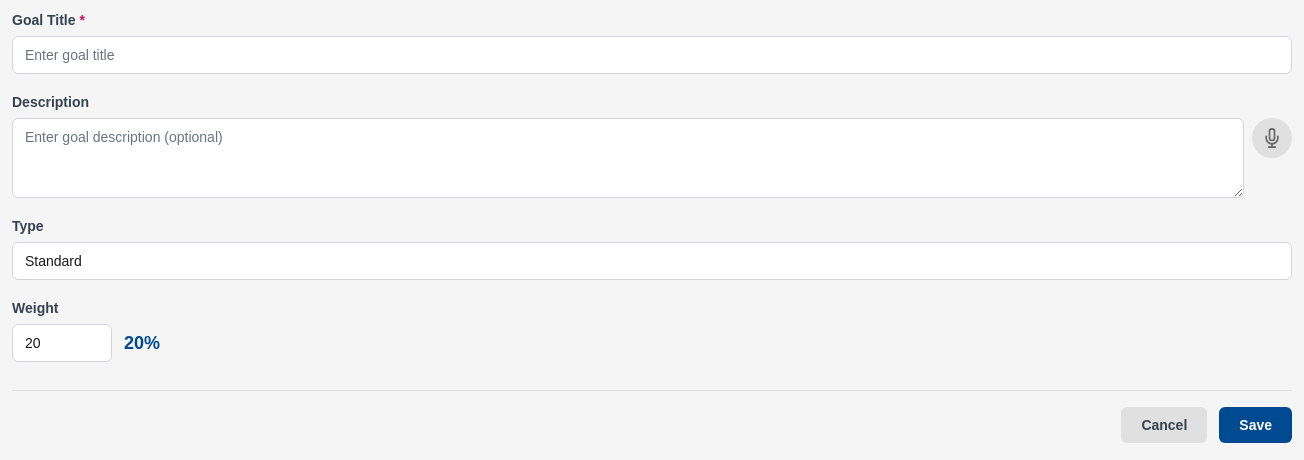
Test: GoalForm › weight slider › should update weight display when slider changes
The image size is (1304, 460).
Step 1. Replace the text in the number field named "weight" with "45" → (62, 343), box top-left (12, 324), bottom-right (112, 362)
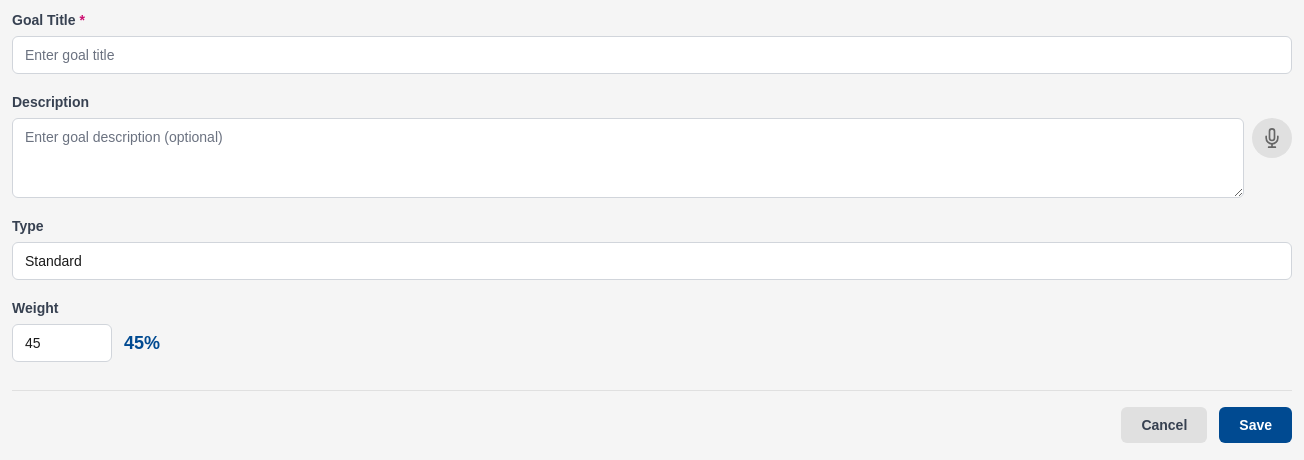
Expected: the text with class "weight-display" reads "45%", top-left (124, 332), bottom-right (160, 352)
